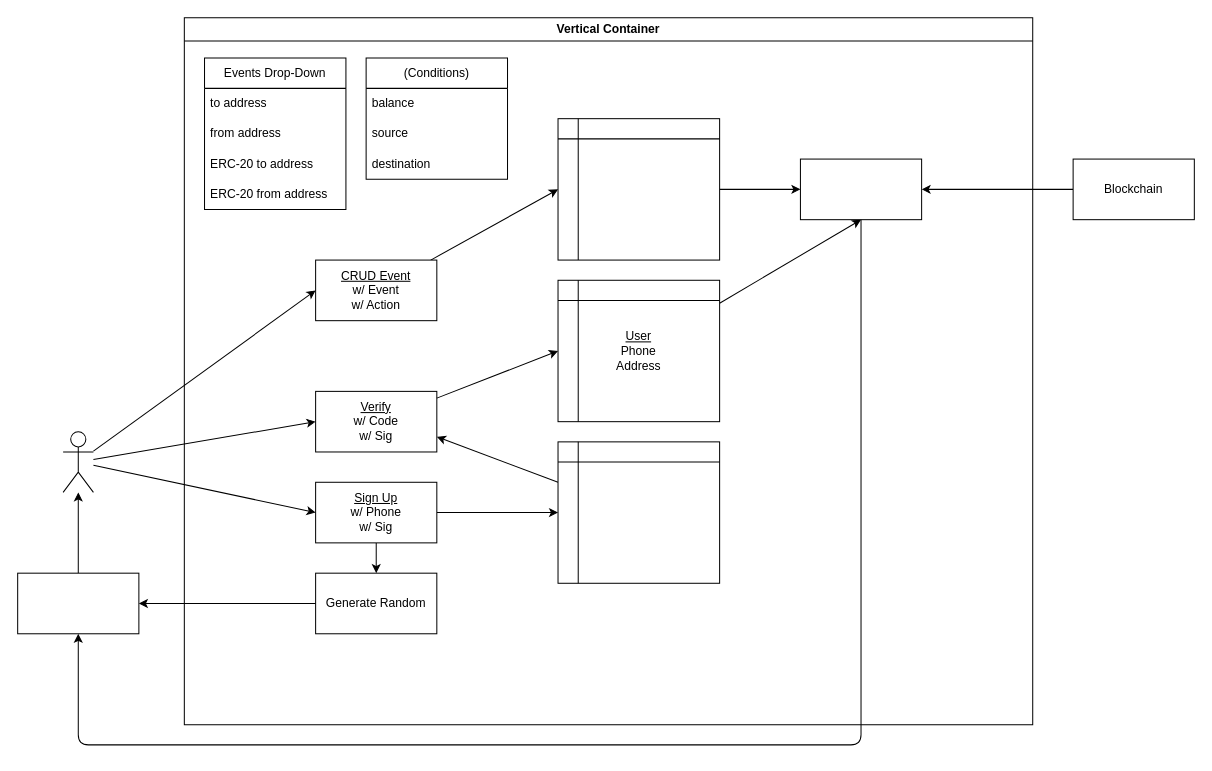
Image size: 1212x771. Some labels were removed from this diagram. The shapes that lost their labels are listed below. From the top down, each one's box as (x1, y1, x2, y2) in pixels, then its label:
(557, 118, 720, 260): Events Type (Args)
(799, 158, 922, 220): Block Monitor
(62, 431, 93, 492): Actor
(557, 441, 720, 583): PhoneVerification Phone Code
(17, 572, 139, 634): Twilio
